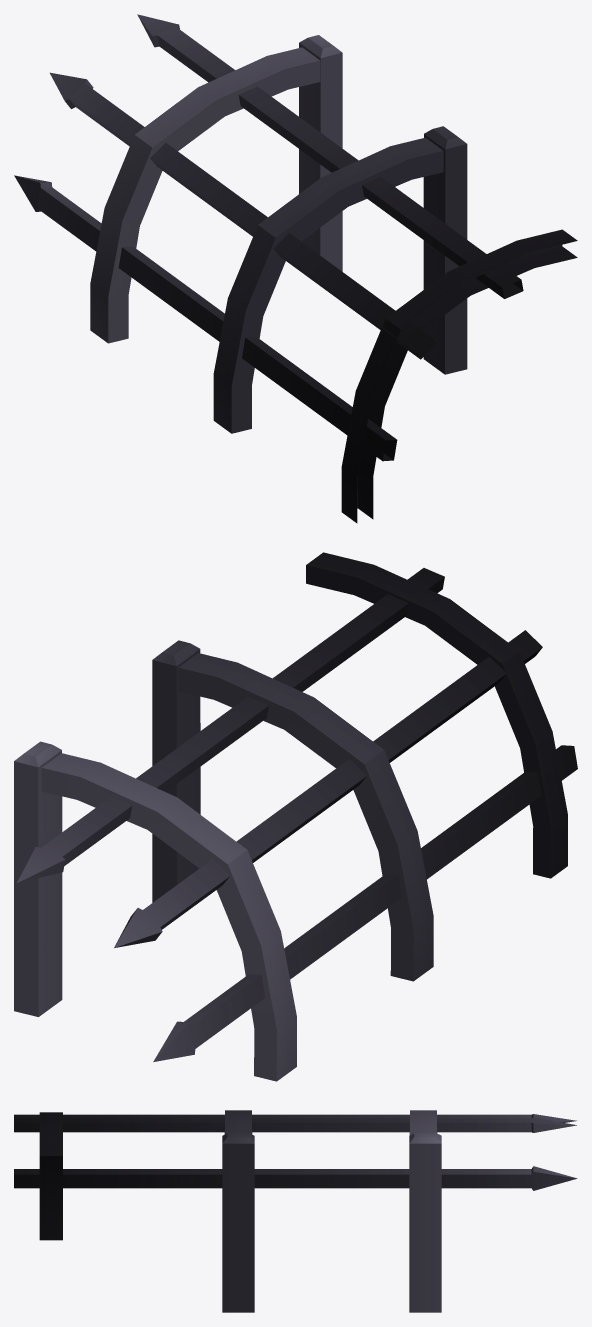
File: Pillar Feet Fence 02.FBX
3 renders of one model, top to bottom at view 1: azimuth 30°, elevation 25°; view 2: azimuth 150°, elevation 25°; view 3: azimuth 270°, elevation 25°, orthographic. The views are drawn at different scales.
Visible parts, largest first — view 1: Pillar Feet Fence 02; view 2: Pillar Feet Fence 02; view 3: Pillar Feet Fence 02.
Boxes of the visible parts, x1=… form: Pillar Feet Fence 02: x1=14, y1=14, x2=577, y2=523; Pillar Feet Fence 02: x1=14, y1=552, x2=577, y2=1081; Pillar Feet Fence 02: x1=14, y1=1110, x2=577, y2=1312.
Size of the model in its own units: 78.12 by 76.52 by 217.
